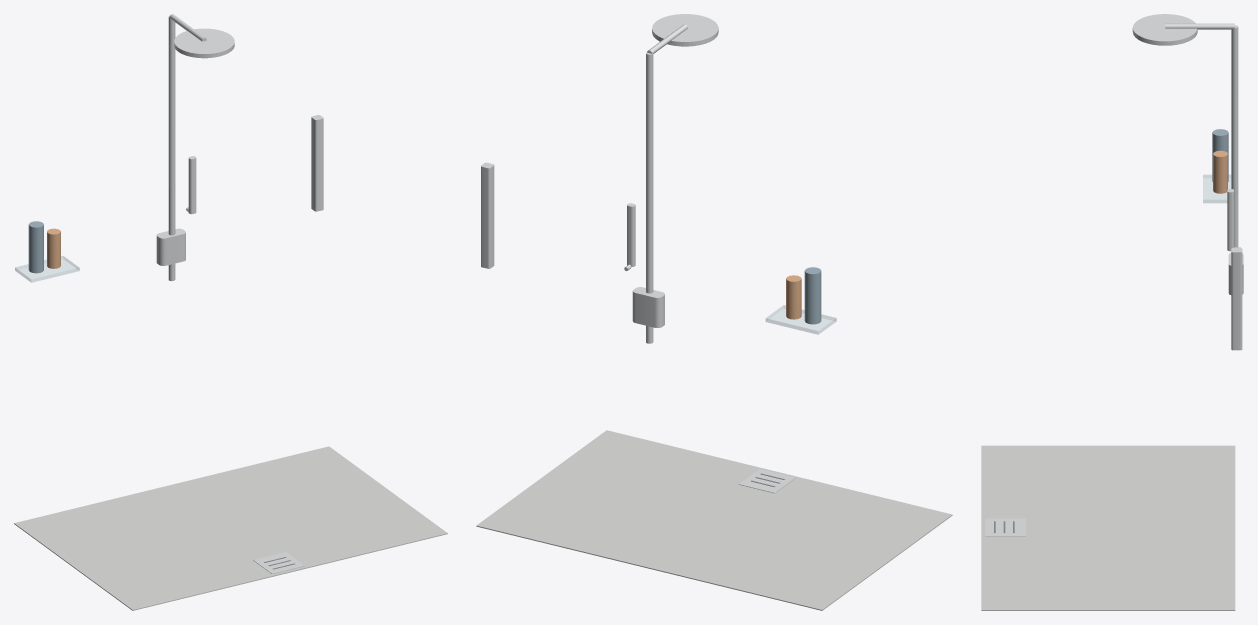
3 renders of one model, left to right at view 1: azimuth 30°, elevation 25°; view 2: azimuth 150°, elevation 25°; view 3: azimuth 270°, elevation 25°, orthographic. The views are drawn at different scales.
Visible parts, largest first — view 1: Sen tắm Rộng=1500; Sâu=1000; view 2: Sen tắm Rộng=1500; Sâu=1000; view 3: Sen tắm Rộng=1500; Sâu=1000.
Boxes of the visible parts, x1,y1,x2,y2 form: Sen tắm Rộng=1500; Sâu=1000: (14,14,447,610); Sen tắm Rộng=1500; Sâu=1000: (476,14,952,610); Sen tắm Rộng=1500; Sâu=1000: (981,14,1243,610).
Size of the model in its own units: 1.44 by 2.06 by 0.97.
